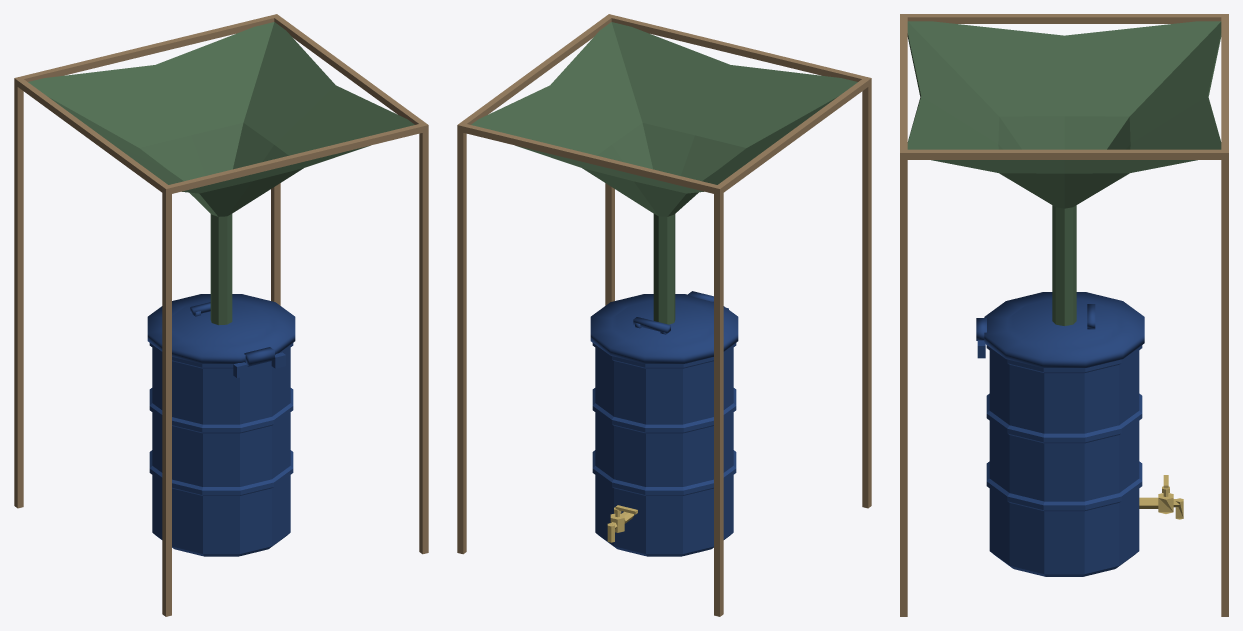
The model's file is Raincatcher_Normal.fbx.
3 renders of one model, left to right at view 1: azimuth 30°, elevation 25°; view 2: azimuth 150°, elevation 25°; view 3: azimuth 270°, elevation 25°, orthographic. The views are drawn at different scales.
Visible parts, largest first — view 1: Plane.001, Rain Catcher Small, Cross Joint.001, Rain Catcher Lid; view 2: Plane.001, Rain Catcher Small, Cross Joint.001, Rain Catcher Lid, Storage_TapLever.002; view 3: Plane.001, Rain Catcher Small, Cross Joint.001, Rain Catcher Lid, Storage_TapLever.002.
Part boxes in pixels (box(x1,y1,x2,y2)): Plane.001: box(28, 22, 414, 325); Rain Catcher Small: box(149, 343, 293, 556); Cross Joint.001: box(14, 14, 428, 616); Rain Catcher Lid: box(147, 294, 295, 365); Plane.001: box(471, 22, 857, 324); Rain Catcher Small: box(592, 308, 736, 556); Cross Joint.001: box(457, 14, 871, 616); Rain Catcher Lid: box(590, 291, 738, 363); Storage_TapLever.002: box(607, 505, 637, 542); Plane.001: box(907, 21, 1221, 325); Rain Catcher Small: box(977, 340, 1142, 576); Cross Joint.001: box(900, 14, 1228, 616); Rain Catcher Lid: box(976, 292, 1144, 367); Storage_TapLever.002: box(1139, 475, 1183, 519).
Size of the model in its own units: 1.23 by 1.23 by 1.92.
